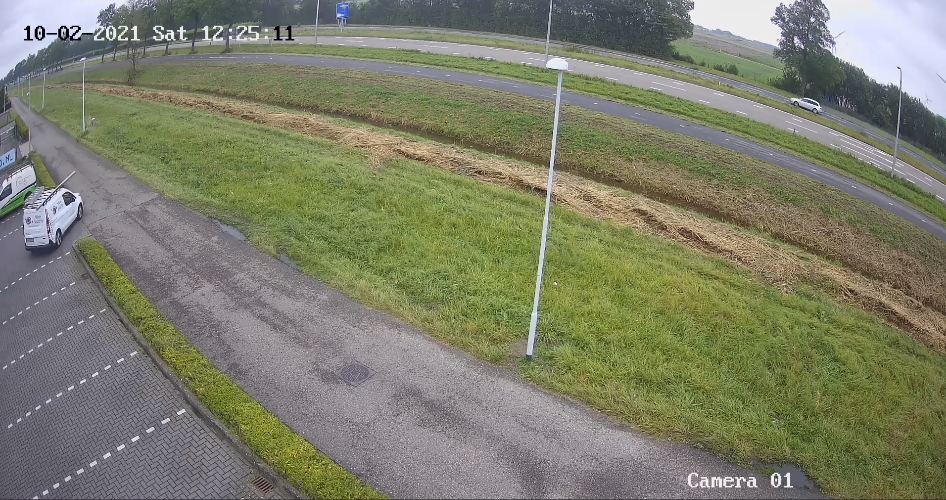werkbus: (19, 165, 89, 260), (1, 152, 37, 223)
